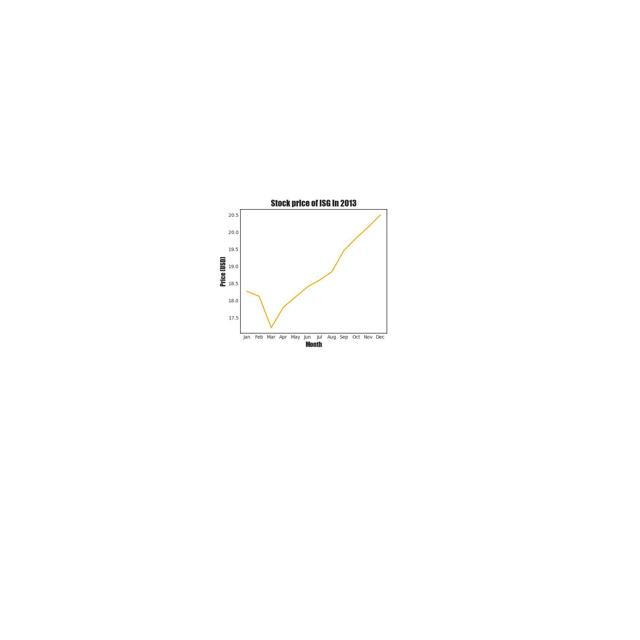Graph: (204, 190, 418, 351)
